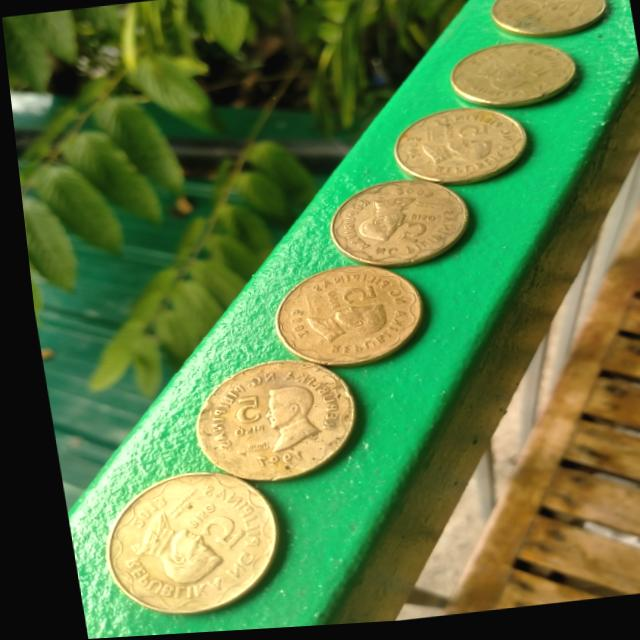5_Old_Front: (202, 369, 332, 473), (332, 186, 452, 265)
